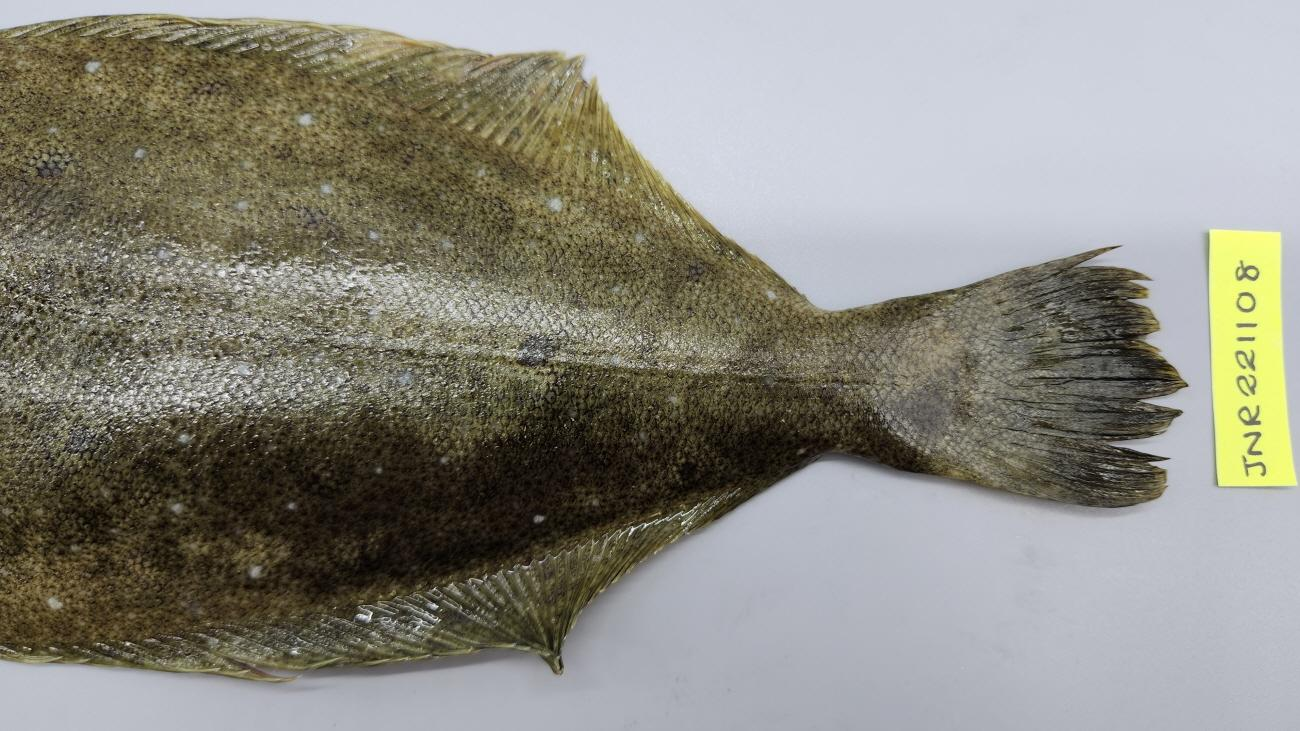POOUN: (0, 11, 1195, 684)
